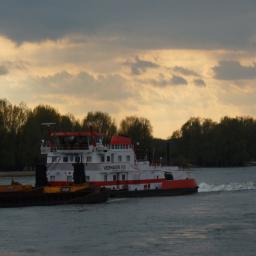tugboat: (32, 122, 204, 203)
